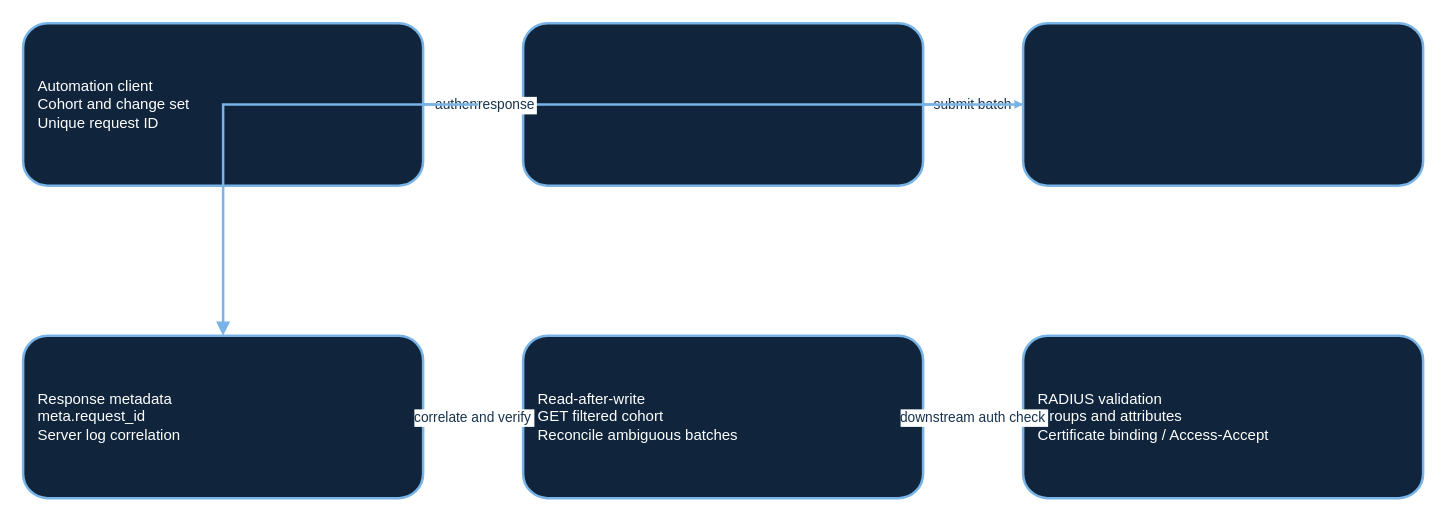
The diagram is 1445 pixels wide and 520 high, and some of its shapes have lost their labels. The centre of each missing label's shape, as x and y in pixels:
API admin / HTTPS API key authentication Server certificate validation: [722,103]
Local Users resource POST / DELETE collection custom1 / custom2 / custom3: [1222,103]
